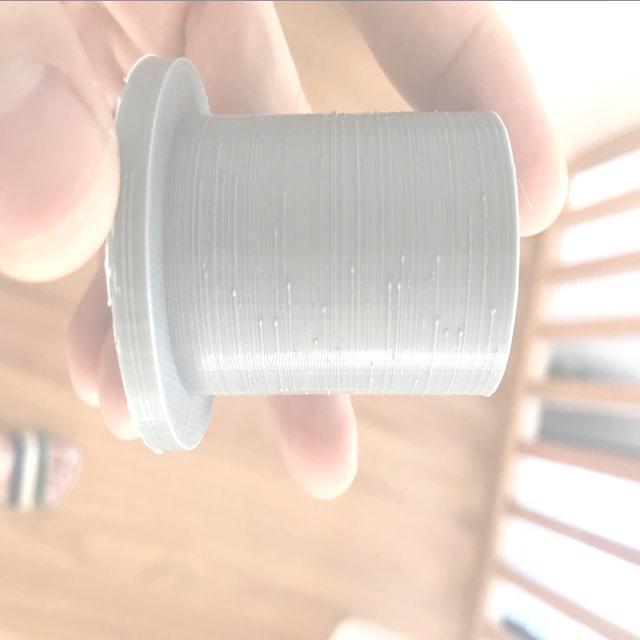zits: (488, 300, 501, 320), (432, 310, 444, 328), (255, 316, 267, 332), (455, 323, 466, 339), (228, 286, 240, 300), (283, 282, 294, 297), (479, 190, 488, 208), (312, 331, 321, 349), (394, 276, 404, 292), (440, 326, 452, 339), (270, 316, 280, 331), (348, 262, 358, 276), (319, 302, 329, 316), (399, 248, 407, 264), (200, 259, 208, 275), (433, 251, 444, 262), (385, 278, 392, 292)
